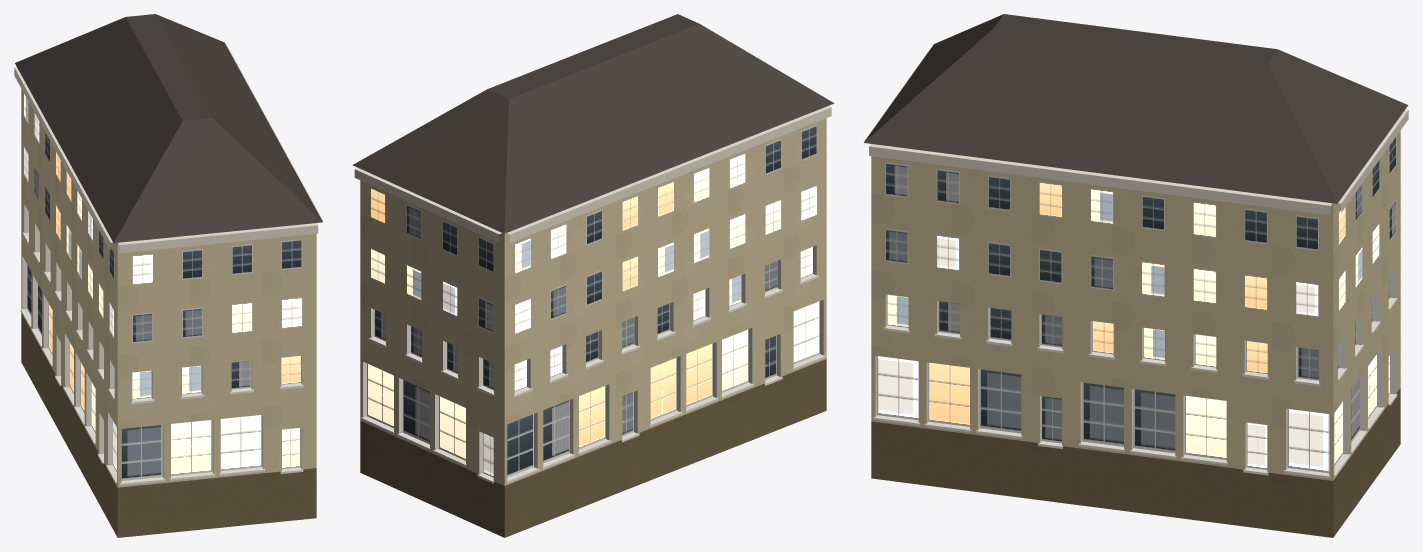
File: z5b_altst150.glb
3 views of the same model, side by side, from view 1: azimuth 30°, elevation 25°; view 2: azimuth 150°, elevation 25°; view 3: azimuth 270°, elevation 25° (orthographic). The views are drawn at different scales.
Parts seen in each view (by area): view 1: z5b_altst150; view 2: z5b_altst150; view 3: z5b_altst150.
Boxes of the visible parts, x1,y1,x2,y2 form: z5b_altst150: [14, 14, 323, 537]; z5b_altst150: [352, 14, 834, 537]; z5b_altst150: [863, 14, 1408, 537].
Bounding box in the file's own units: 18.08 × 22.28 × 26.05.
3 materials, 3 textured.
